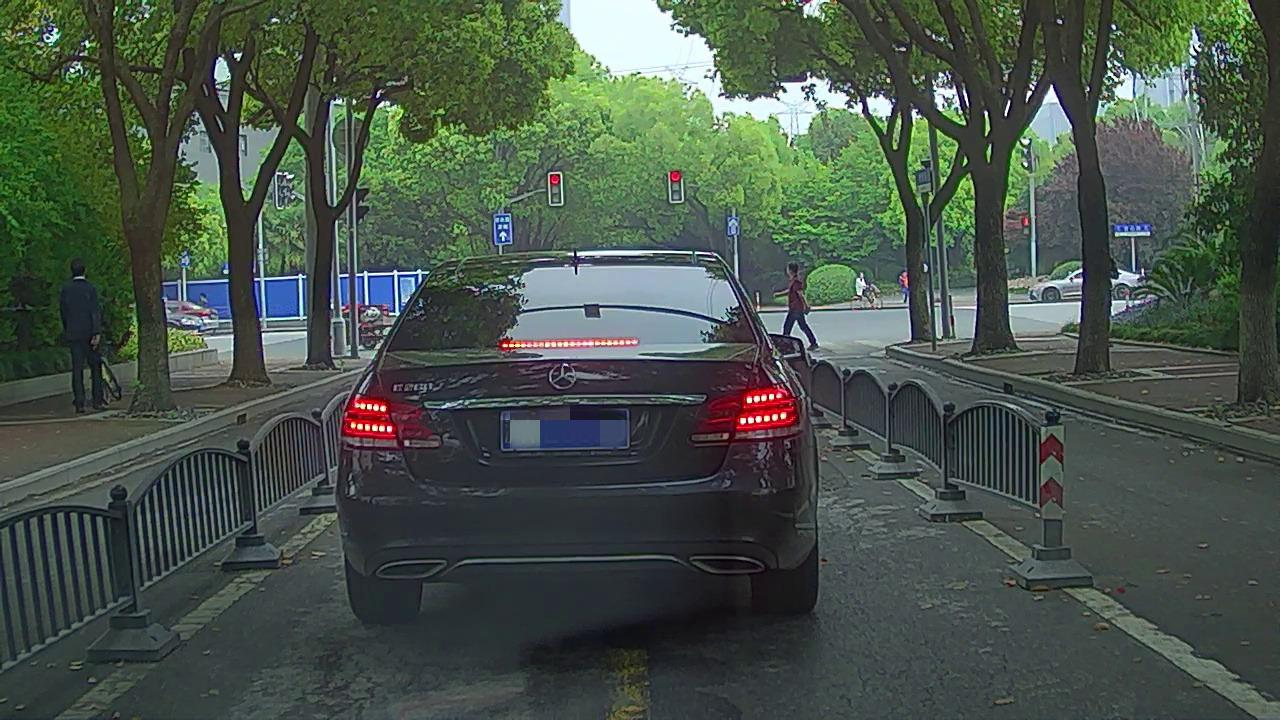traffic_light: (668, 170, 684, 202), (548, 171, 563, 205)
